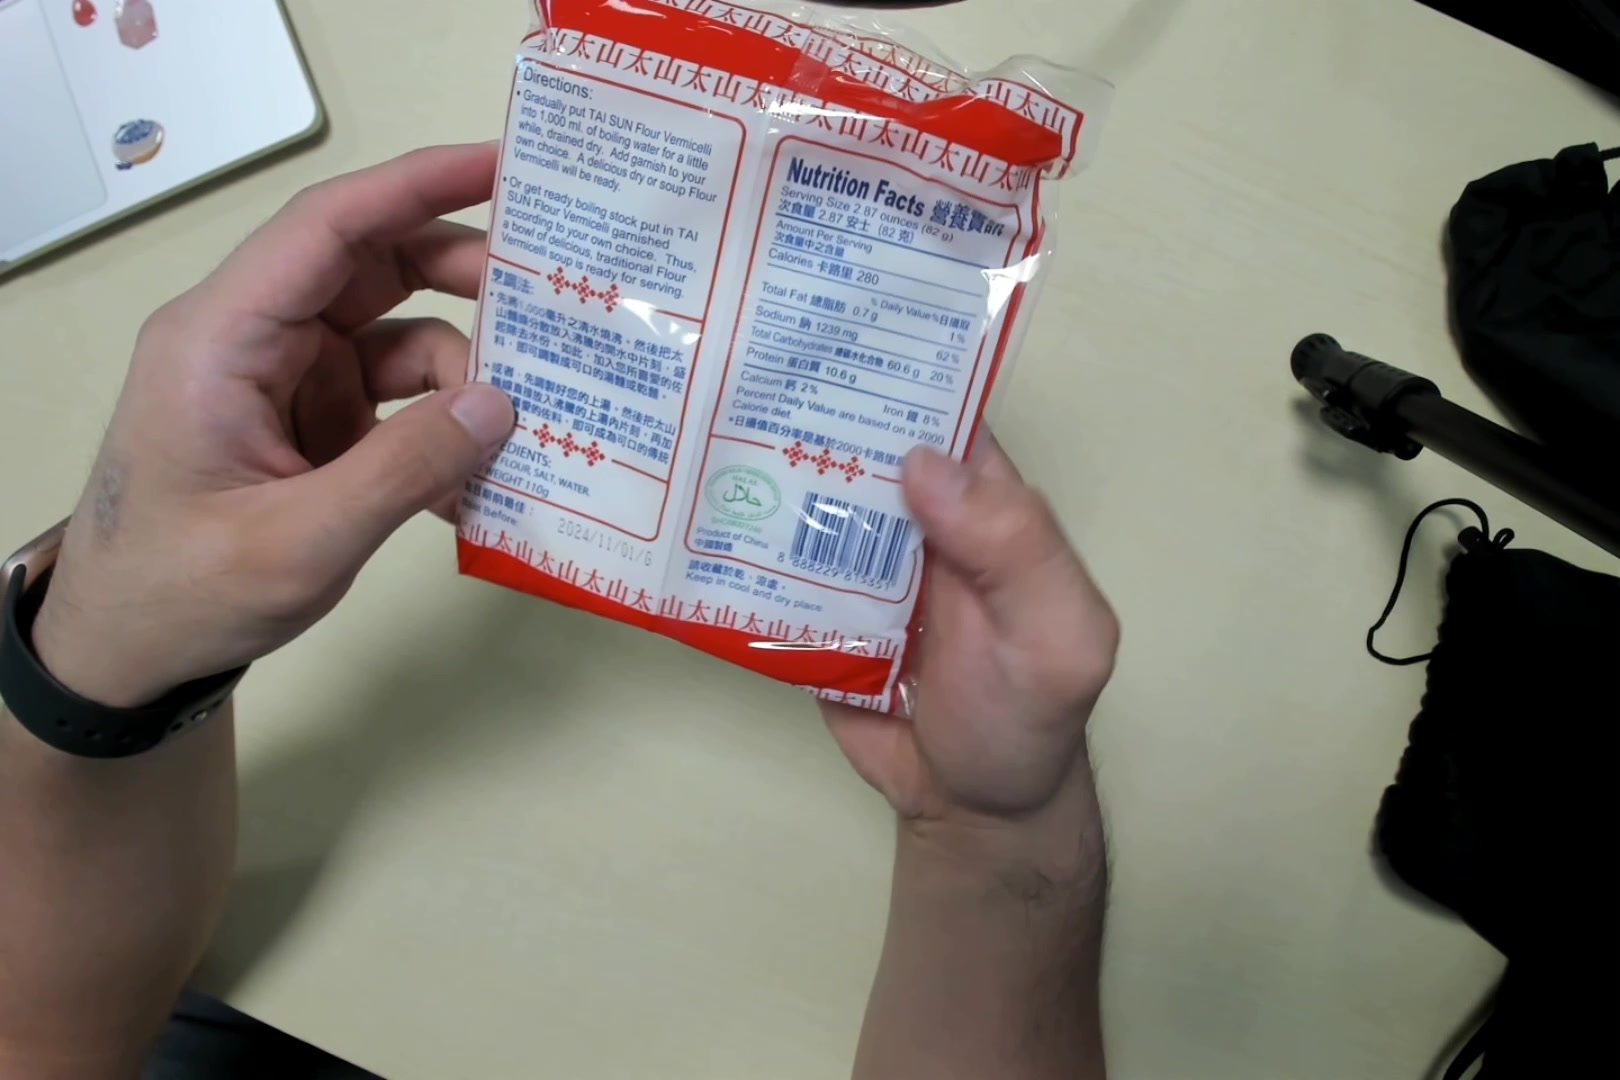BeeHoonVermicelli_100-199g_Halal_NonHealthy: (479, 4, 1088, 668)
